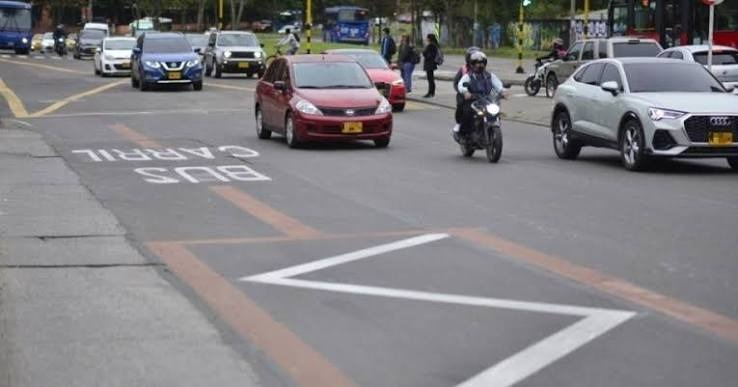car: (543, 55, 738, 169), (546, 55, 738, 168), (255, 56, 397, 152), (448, 84, 508, 162), (133, 32, 205, 89), (133, 34, 206, 90), (205, 30, 266, 78), (352, 58, 407, 111), (82, 27, 125, 73), (96, 32, 139, 75), (1, 9, 32, 57), (73, 24, 106, 63)
